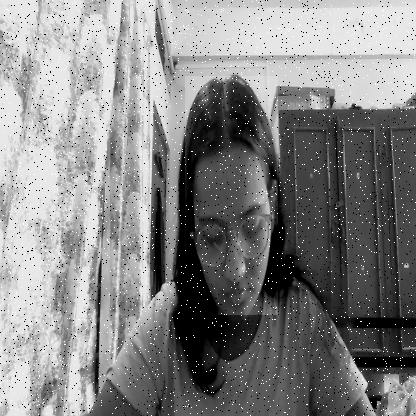Normal: (185, 76, 278, 315)
